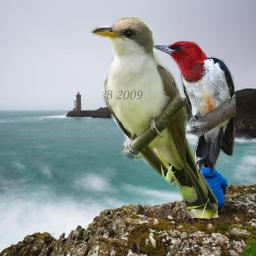Cuckoo: (91, 16, 218, 218)
Woodpecker: (151, 40, 236, 176)
